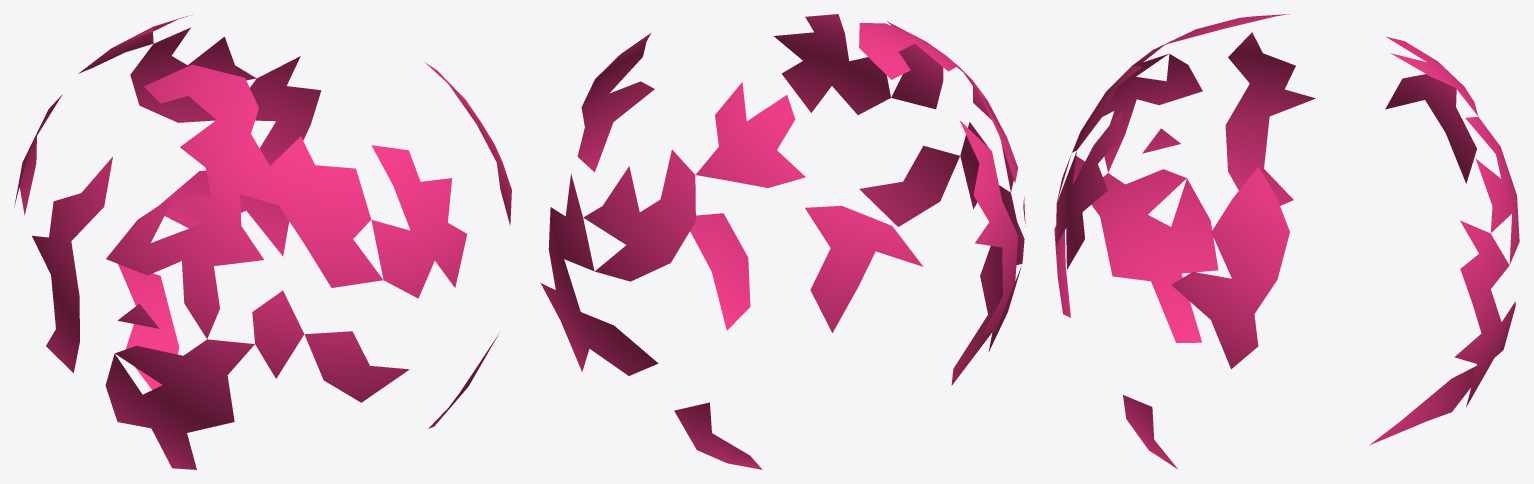
File: Balloon Broken.fbx
3 views of the same model, side by side, from view 1: azimuth 30°, elevation 25°; view 2: azimuth 150°, elevation 25°; view 3: azimuth 270°, elevation 25° (orthographic). The views are drawn at different scales.
Parts seen in each view (by area): view 1: Cube_Cube.007, Cube_Cube.005, Cube_Cube.013, Cube_Cube.011, Cube_Cube.008, Cube_Cube.010, Cube_Cube.006, Cube_Cube.016, Cube_Cube.004, Cube_Cube.012, Cube_Cube.009, Cube_Cube.014; view 2: Cube_Cube.010, Cube_Cube.011, Cube_Cube.013, Cube_Cube.014, Cube_Cube.009, Cube_Cube.007, Cube_Cube.012, Cube_Cube.015, Cube_Cube.008, Cube_Cube.006, Cube_Cube.005, Cube_Cube.016 (+1 smaller); view 3: Cube_Cube.005, Cube_Cube.012, Cube_Cube.008, Cube_Cube.007, Cube_Cube.011, Cube_Cube.013, Cube_Cube.009, Cube_Cube.010, Cube_Cube.016, Cube_Cube.015, Cube_Cube.014, Cube_Cube.006.
Boxes of the visible parts, x1,y1,x2,y2 form: Cube_Cube.007: (106,64,383,338); Cube_Cube.005: (105,339,254,469); Cube_Cube.013: (371,145,467,298); Cube_Cube.011: (160,56,321,256); Cube_Cube.008: (32,157,112,372); Cube_Cube.010: (130,27,256,122); Cube_Cube.006: (304,331,409,402); Cube_Cube.016: (118,264,179,389); Cube_Cube.004: (252,290,304,378); Cube_Cube.012: (424,62,511,225); Cube_Cube.009: (14,94,62,215); Cube_Cube.014: (78,14,192,73); Cube_Cube.010: (583,149,695,281); Cube_Cube.011: (540,173,658,375); Cube_Cube.013: (774,14,890,114); Cube_Cube.014: (695,82,805,187); Cube_Cube.009: (805,205,923,332); Cube_Cube.007: (859,21,1017,191); Cube_Cube.012: (577,33,654,172); Cube_Cube.015: (690,213,750,330); Cube_Cube.008: (959,120,1018,333); Cube_Cube.006: (859,145,959,226); Cube_Cube.005: (951,185,1024,385); Cube_Cube.016: (674,402,762,469); Cube_Cube.005: (1091,169,1218,342); Cube_Cube.012: (1171,167,1289,369); Cube_Cube.008: (1225,32,1315,205); Cube_Cube.007: (1057,14,1289,201); Cube_Cube.011: (1454,220,1515,407); Cube_Cube.013: (1056,110,1121,269); Cube_Cube.009: (1385,74,1476,183); Cube_Cube.010: (1465,116,1519,264); Cube_Cube.016: (1369,366,1476,445); Cube_Cube.015: (1123,395,1177,468); Cube_Cube.014: (1386,36,1477,115); Cube_Cube.006: (1054,225,1070,317).
Bounding box in the file's own units: 21.27 × 18.78 × 19.78.
